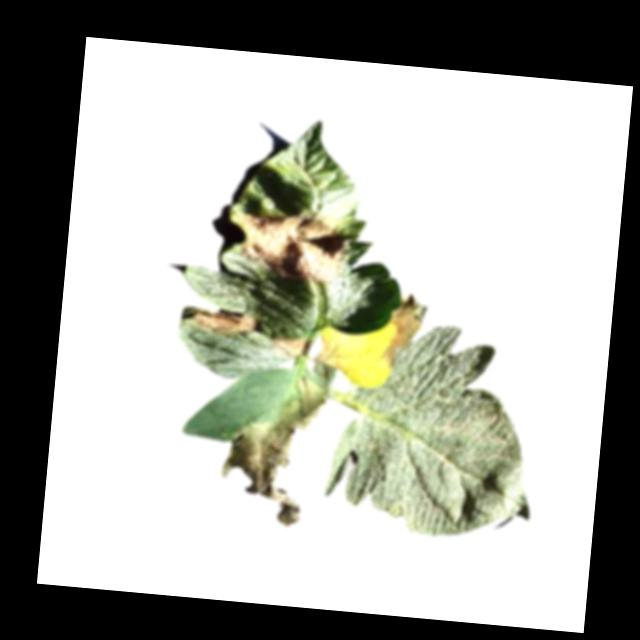Late_blight: (219, 371, 329, 528), (229, 202, 356, 288), (380, 293, 427, 372), (192, 304, 260, 339), (313, 336, 348, 372), (269, 333, 311, 357)
